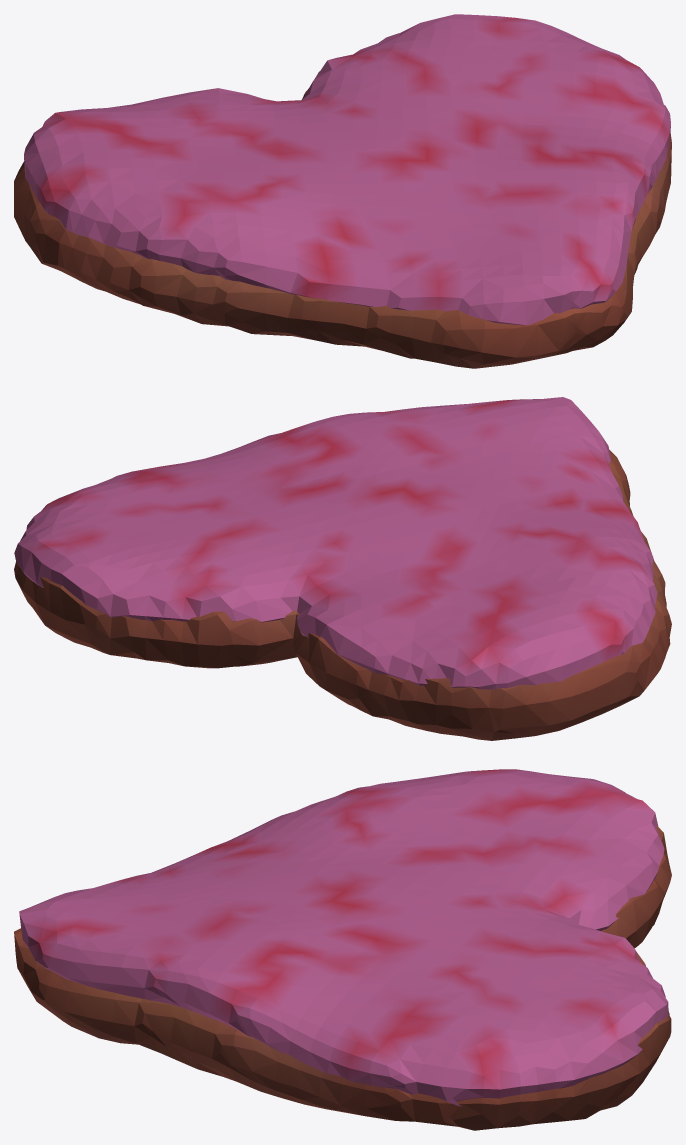
The model's file is heart_biscuit_evil.glb.
3 renders of one model, top to bottom at view 1: azimuth 30°, elevation 25°; view 2: azimuth 150°, elevation 25°; view 3: azimuth 270°, elevation 25°, orthographic. The views are drawn at different scales.
Visible parts, largest first — view 1: Cylinder, Cylinder 1; view 2: Cylinder, Cylinder 1; view 3: Cylinder, Cylinder 1.
Boxes of the visible parts, <box> form: Cylinder: <box>24,14,670,325</box>; Cylinder 1: <box>14,71,671,368</box>; Cylinder: <box>14,397,657,689</box>; Cylinder 1: <box>14,450,671,740</box>; Cylinder: <box>19,769,668,1106</box>; Cylinder 1: <box>14,826,671,1130</box>.
Size of the model in its own units: 1.35 by 0.2146 by 1.24.
